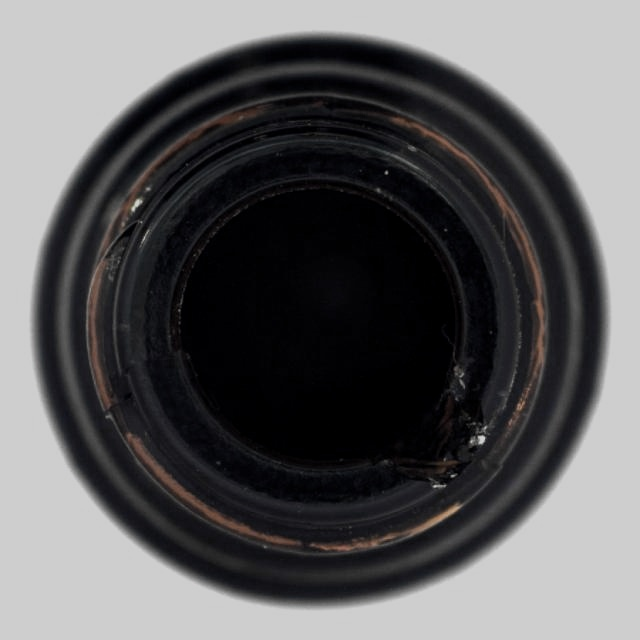bad-broken_small: (30, 30, 613, 612)
